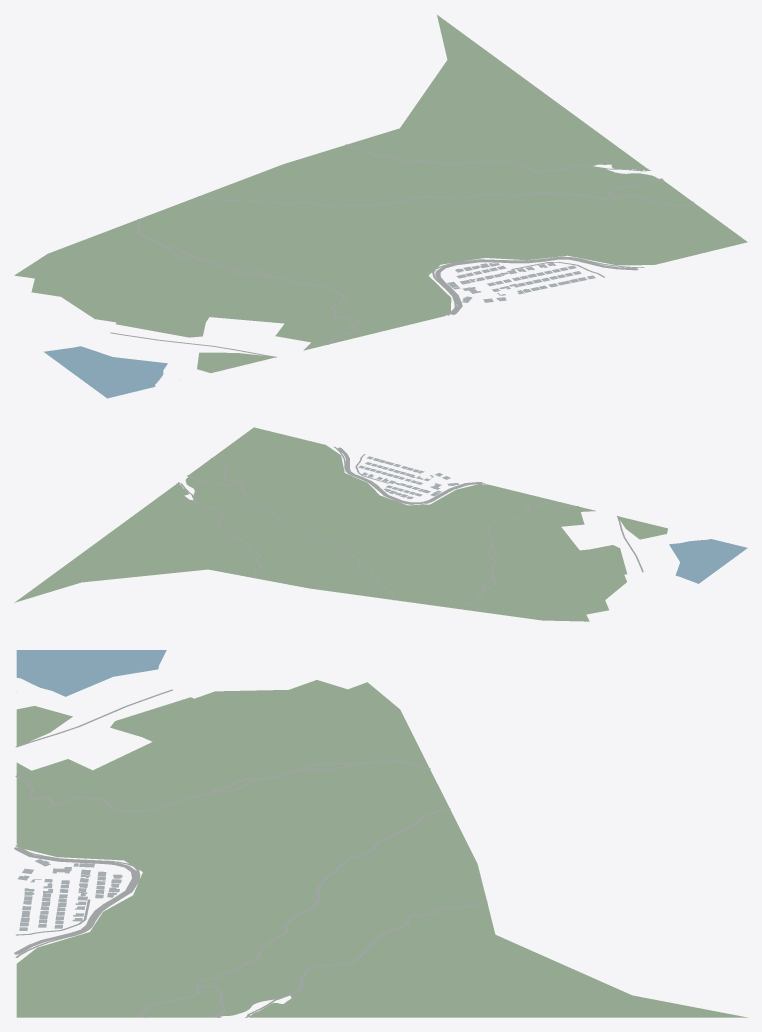
The model's file is 14_8-known-coarse.glb.
3 views of the same model, one above another, from view 1: azimuth 30°, elevation 25°; view 2: azimuth 150°, elevation 25°; view 3: azimuth 270°, elevation 25° (orthographic). The views are drawn at different scales.
Size of the model in its own units: 1001 by 0.15 by 844.
